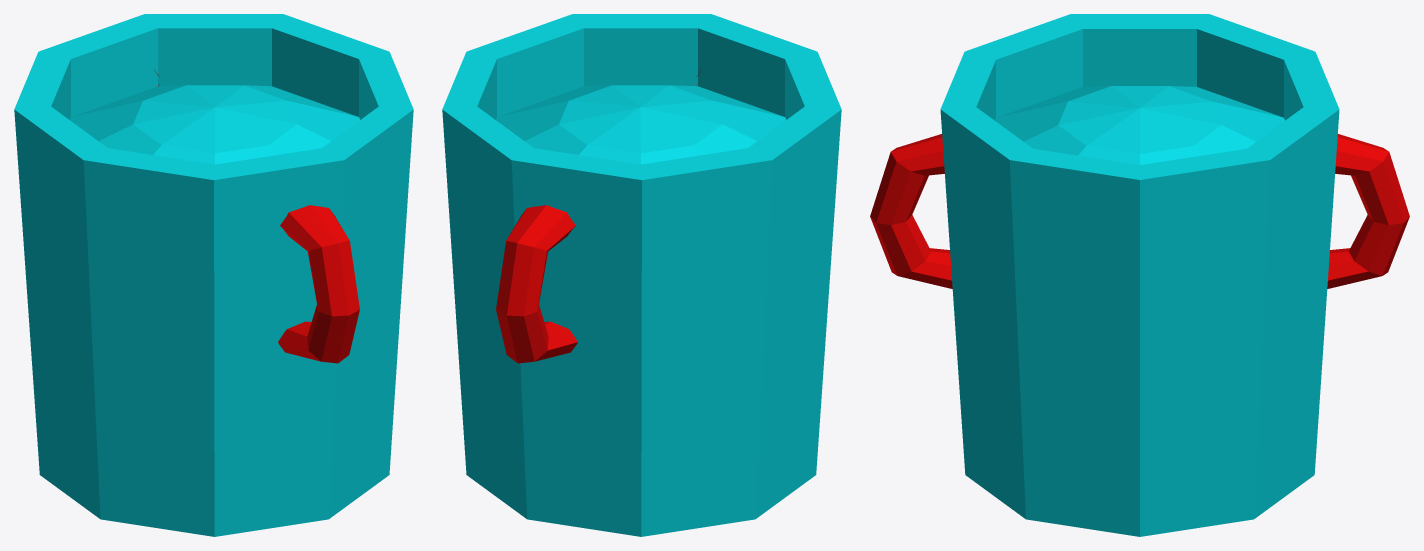
Rendered from Pot.fbx.
3 views of the same model, side by side, from view 1: azimuth 30°, elevation 25°; view 2: azimuth 150°, elevation 25°; view 3: azimuth 270°, elevation 25° (orthographic).
Visible parts, largest first — view 1: pot, earss; view 2: pot, earss; view 3: pot, earss.
Part boxes in pixels (x1,y1,x2,y2): pot: (14, 14, 413, 536); earss: (154, 70, 359, 363); pot: (442, 14, 841, 536); earss: (496, 70, 701, 363); pot: (940, 14, 1339, 536); earss: (870, 134, 1409, 288).
Size of the model in its own units: 1.94 by 2 by 2.66.
